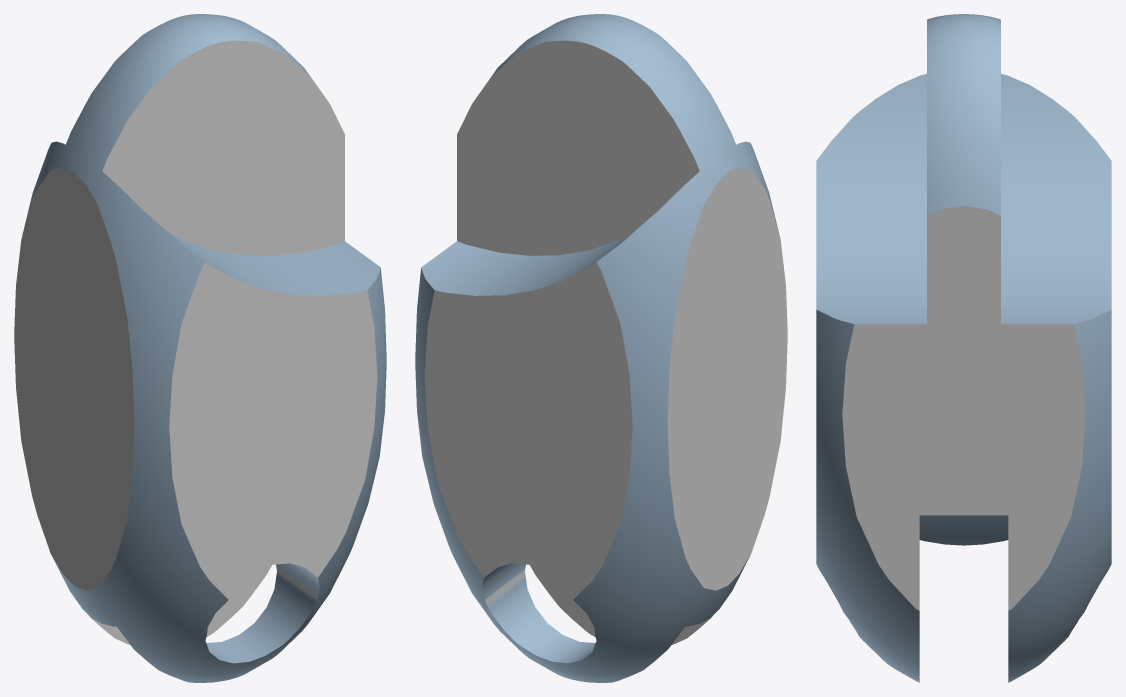
The model's file is phalange5x3.glb.
3 renders of one model, left to right at view 1: azimuth 30°, elevation 25°; view 2: azimuth 150°, elevation 25°; view 3: azimuth 270°, elevation 25°, orthographic.
Size of the model in its own units: 0.3 by 0.7288 by 0.3.
